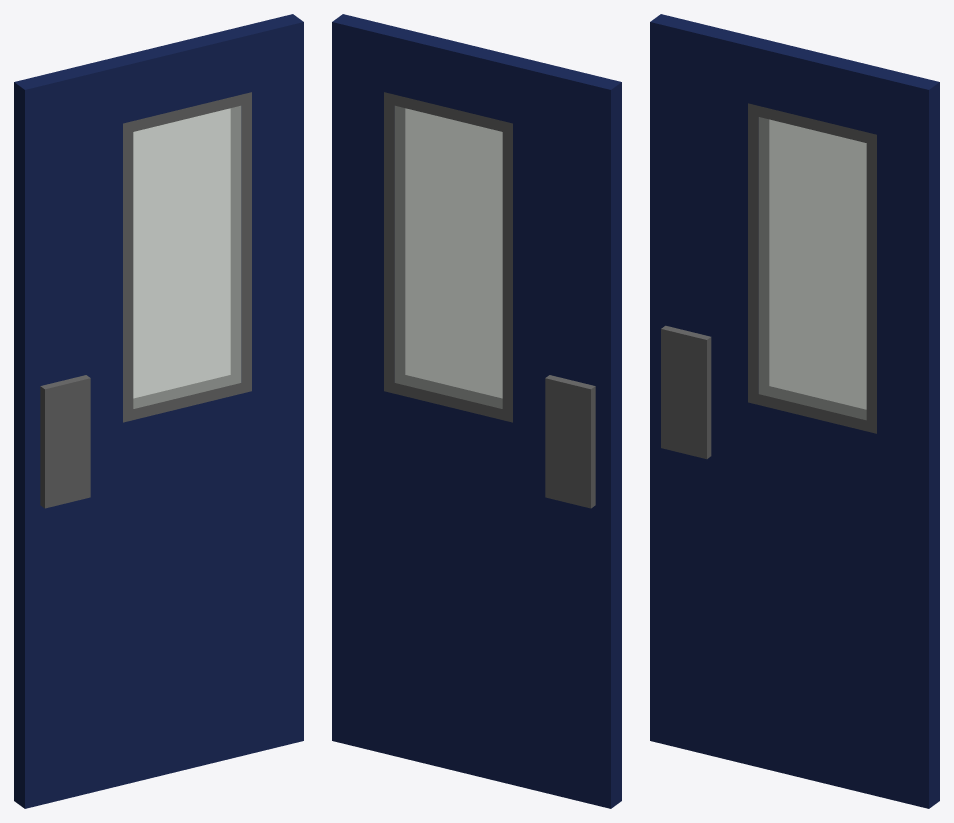
The model's file is door-hospital.fbx.
3 views of the same model, side by side, from view 1: azimuth 30°, elevation 25°; view 2: azimuth 150°, elevation 25°; view 3: azimuth 330°, elevation 25° (orthographic).
Visible parts, largest first — view 1: door-hospital; view 2: door-hospital; view 3: door-hospital.
Part boxes in pixels (bbox=[...]): door-hospital: bbox=[14, 14, 303, 808]; door-hospital: bbox=[332, 14, 621, 808]; door-hospital: bbox=[650, 14, 939, 808].
Bounding box in the file's own units: 160 × 395 × 19.69.
